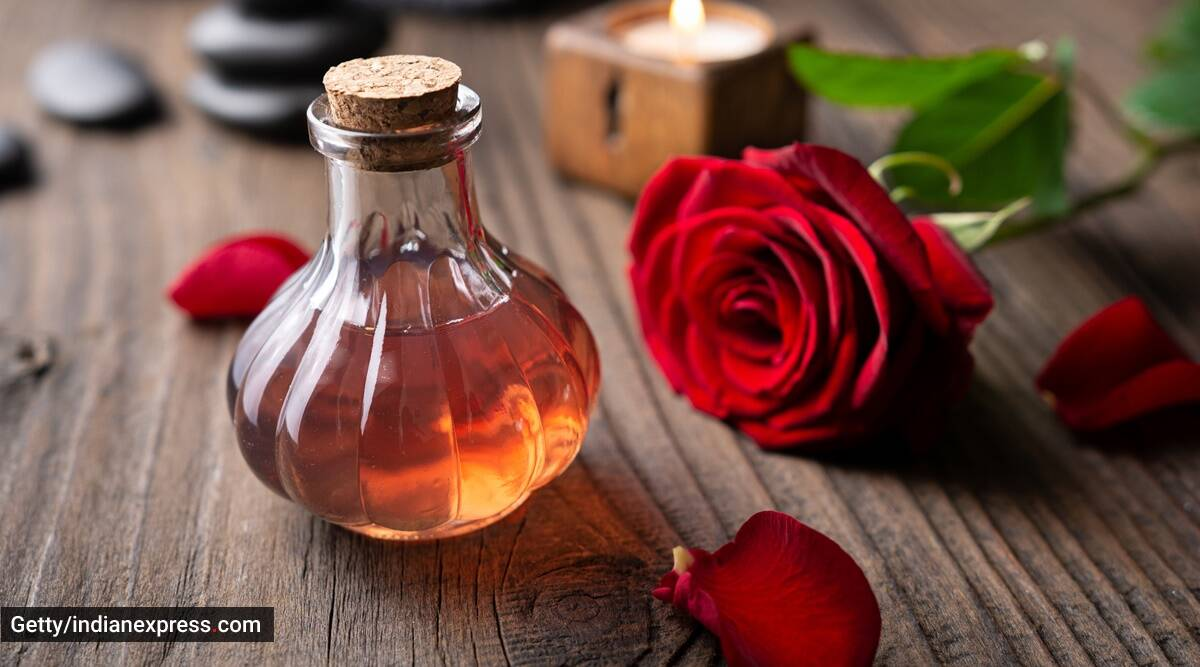rose: (604, 136, 1011, 454)
